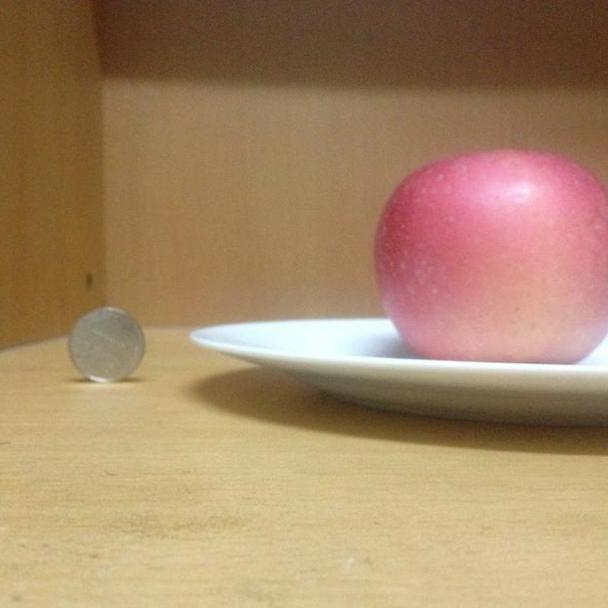apple: (375, 149, 608, 363)
